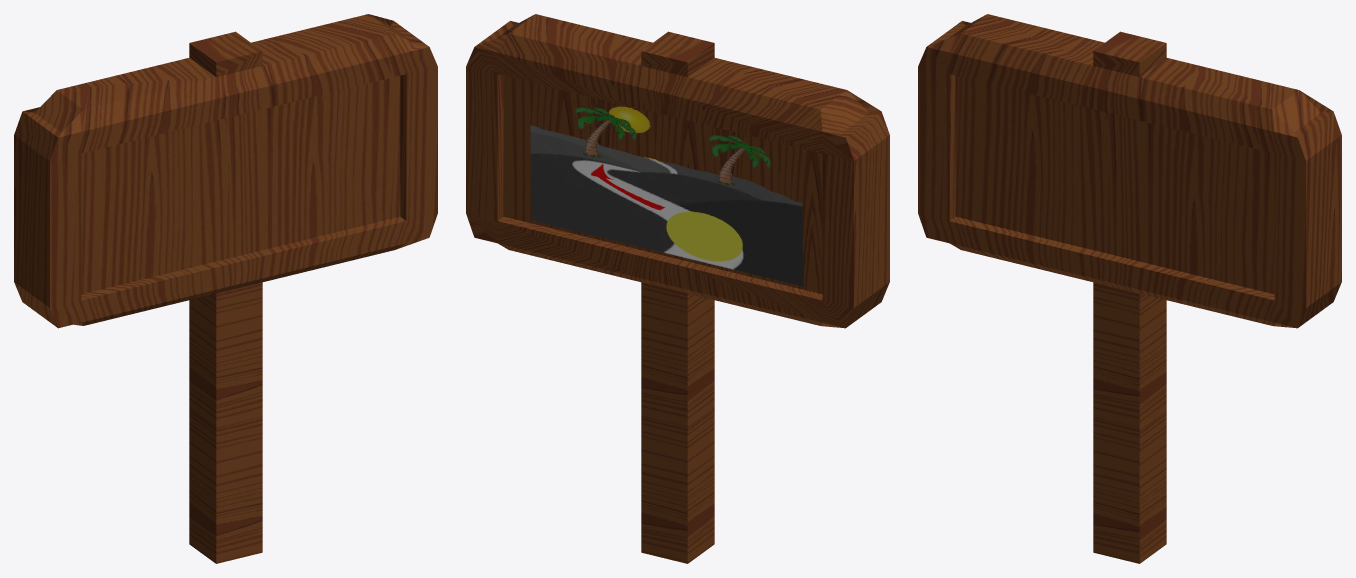
File: LaberinthSign1.fbx
The picture shows the model from 3 angles, left to right: view 1: azimuth 30°, elevation 25°; view 2: azimuth 150°, elevation 25°; view 3: azimuth 330°, elevation 25°; orthographic projection.
Visible parts, largest first — view 1: Sign; view 2: Sign; view 3: Sign.
Part boxes in pixels (<box>): Sign: <box>14,14,437,563</box>; Sign: <box>466,14,889,563</box>; Sign: <box>918,14,1341,563</box>.
Bounding box in the file's own units: 335 × 414 × 53.52.
1 material, 1 textured.
